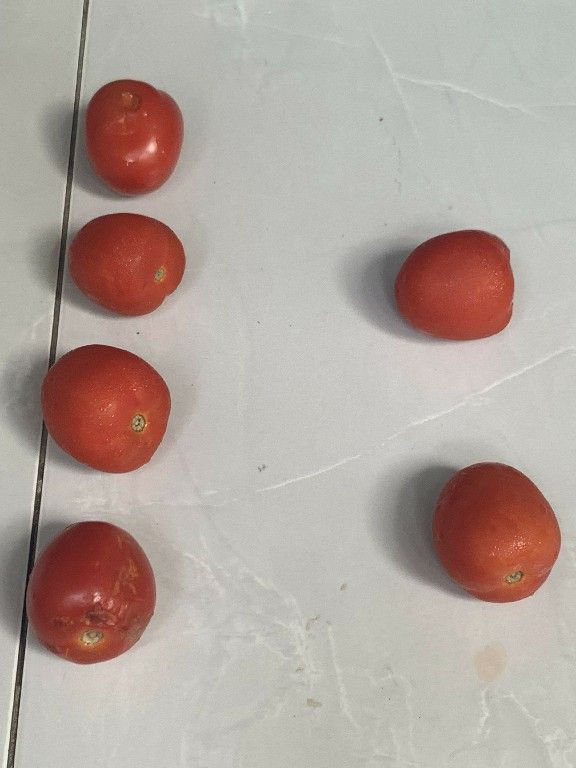NG: (24, 517, 157, 666), (81, 65, 182, 196)
OK: (423, 455, 565, 610), (34, 340, 181, 476), (386, 222, 520, 351), (65, 211, 191, 319)
